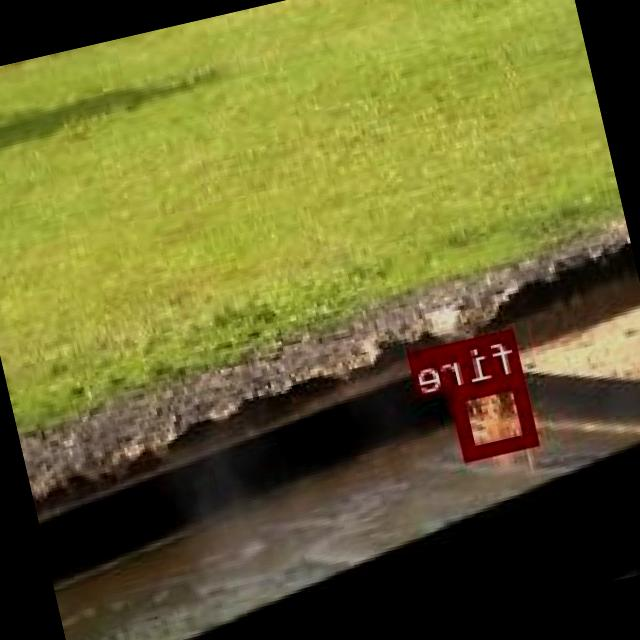fire: (450, 372, 540, 457)
